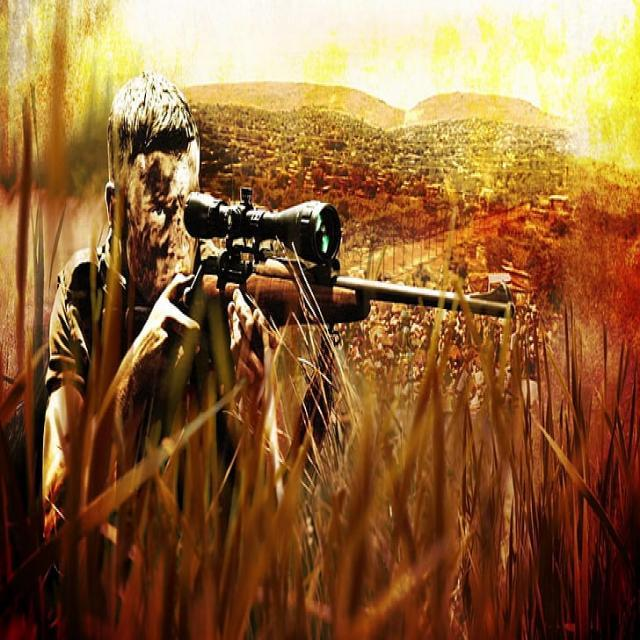rifle: (121, 183, 522, 359)
